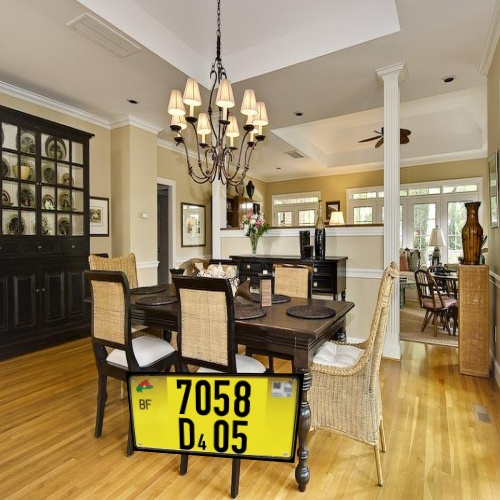plate: (115, 359, 314, 475)
